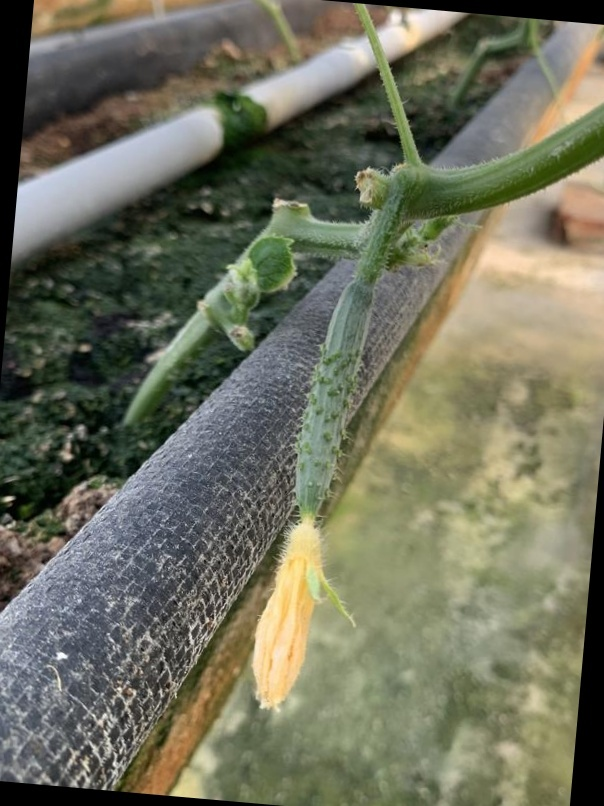bear: (236, 269, 393, 720)
